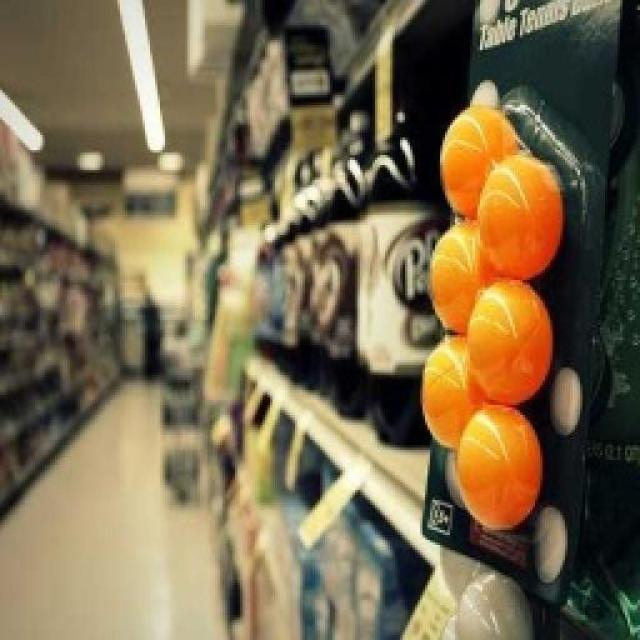oball: (452, 402, 545, 535), (440, 85, 528, 222), (474, 155, 564, 282), (468, 282, 552, 408), (420, 335, 485, 458), (428, 220, 482, 338)
